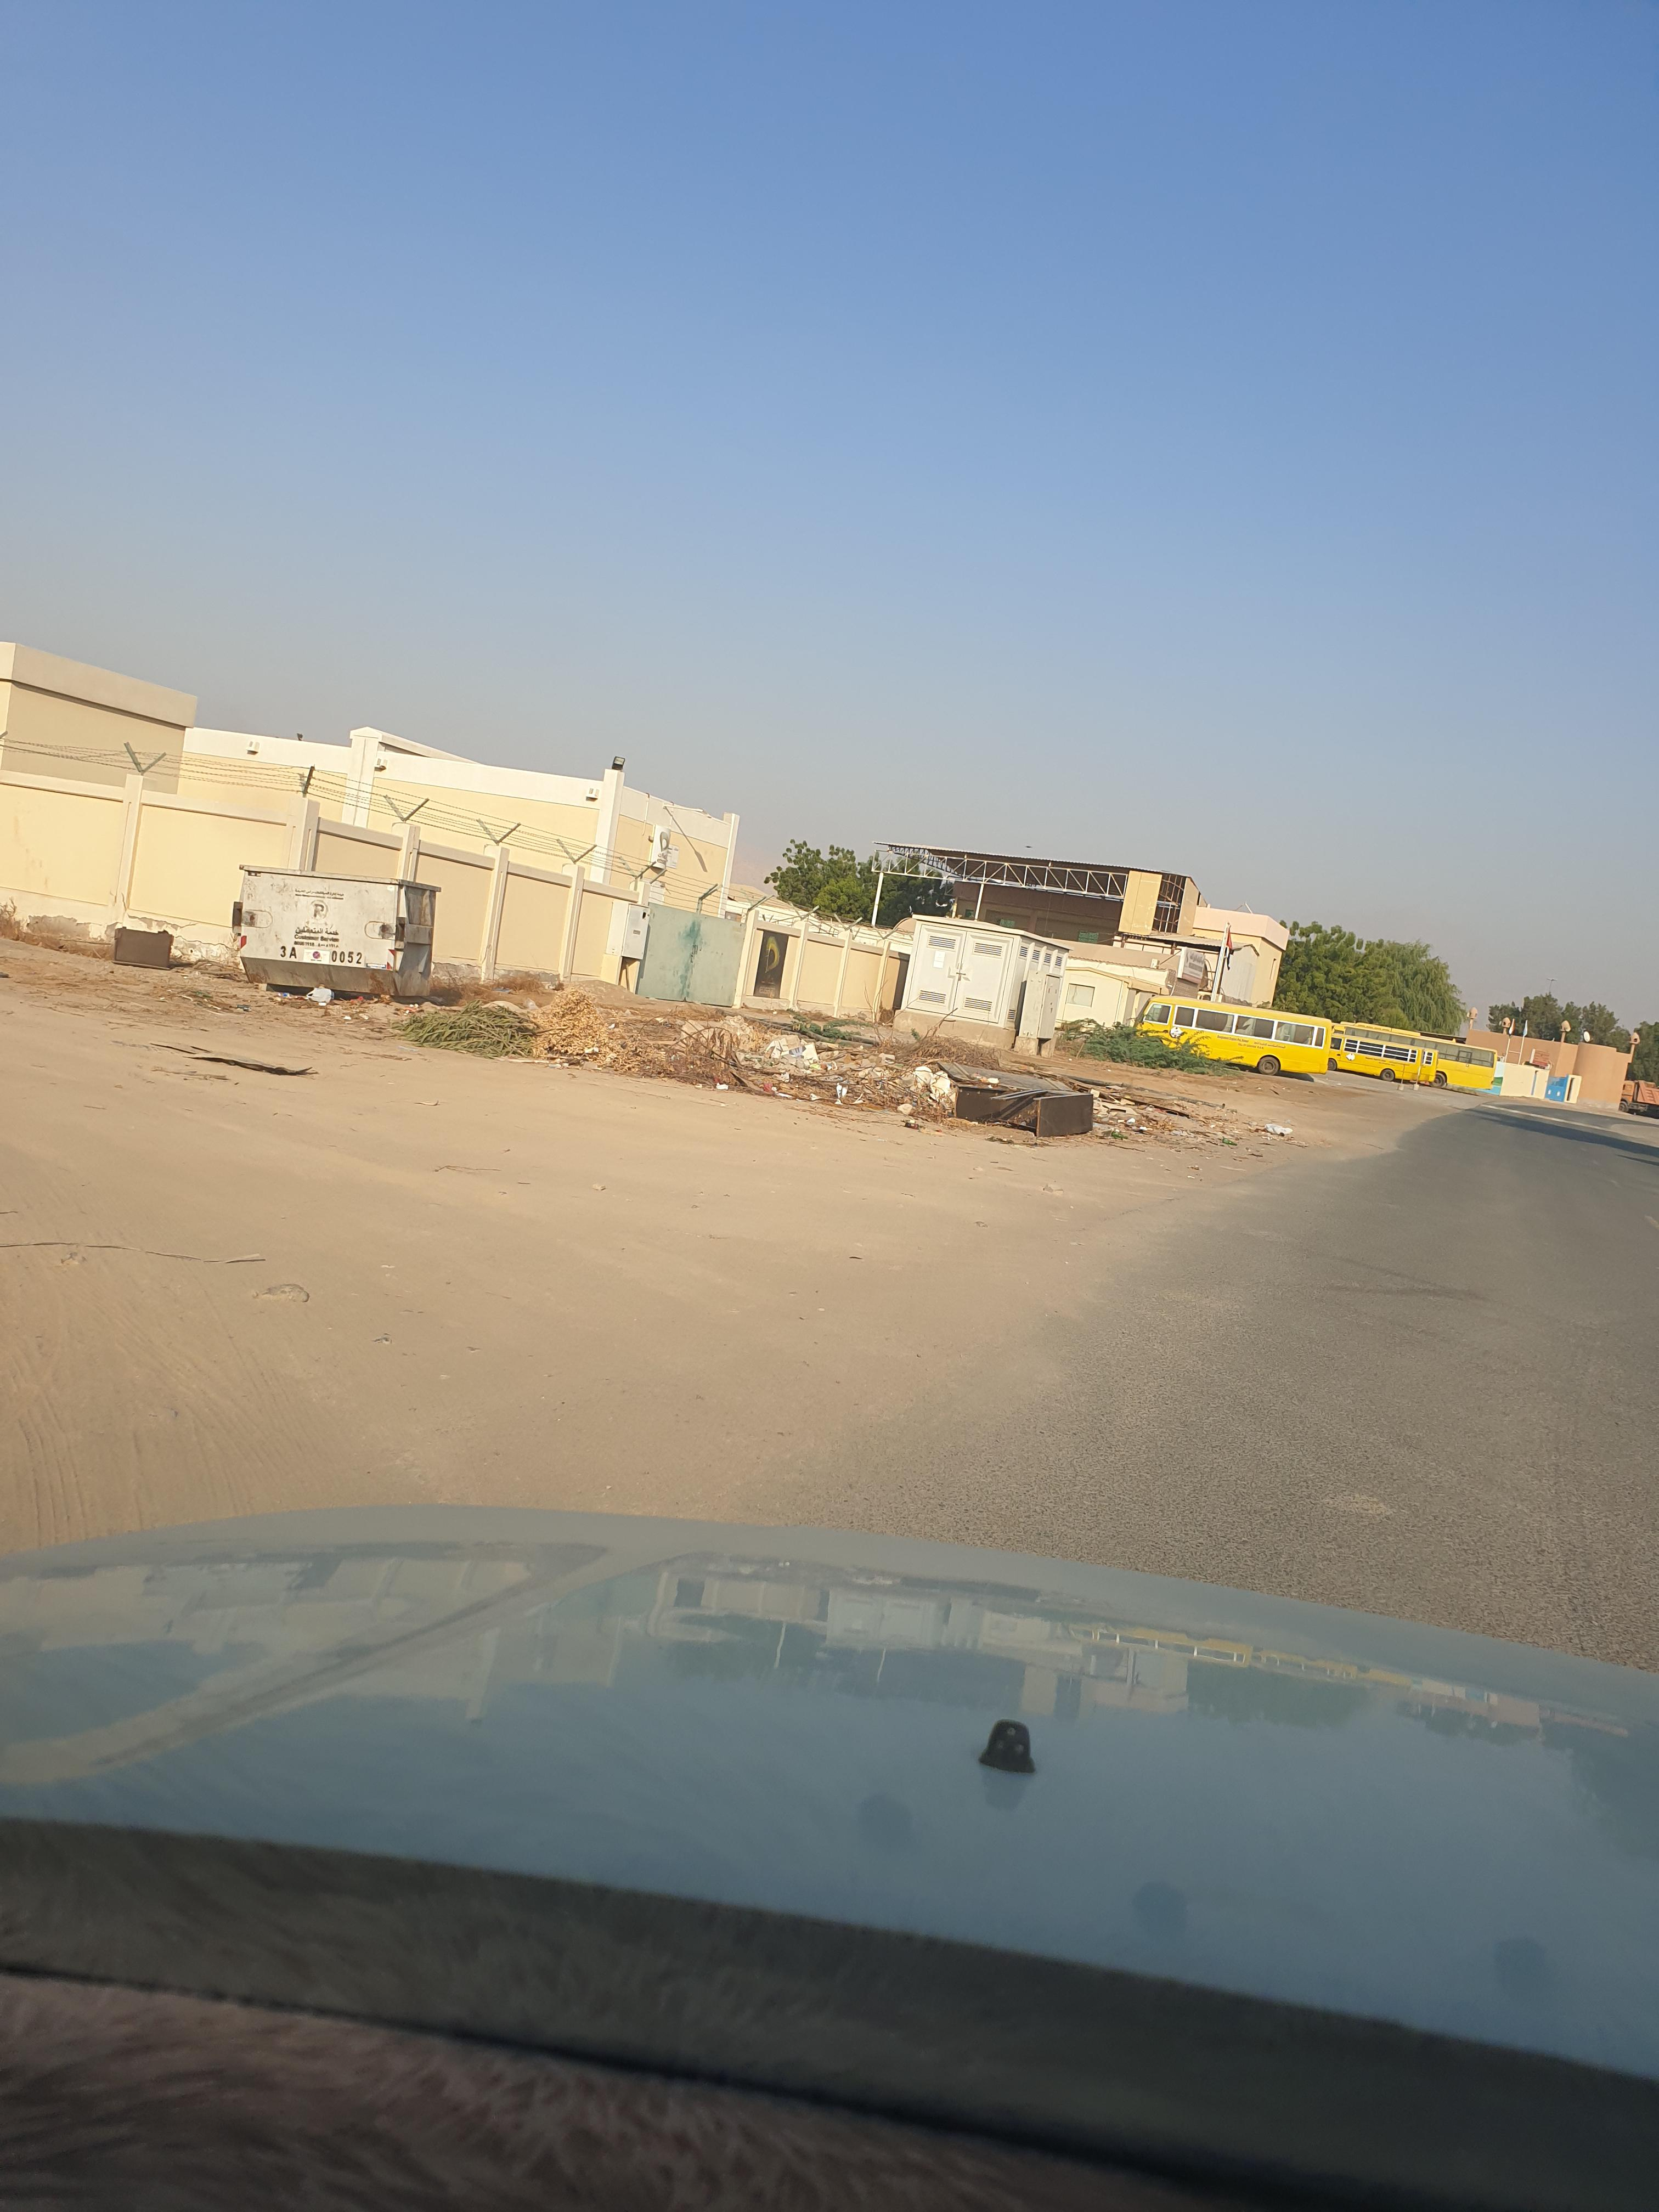fallen_trees: (749, 1050, 936, 1129), (404, 1001, 589, 1071), (532, 1012, 692, 1089), (617, 1033, 765, 1101)
uncollected_waste: (941, 1057, 1105, 1141), (1134, 1087, 1272, 1176)
